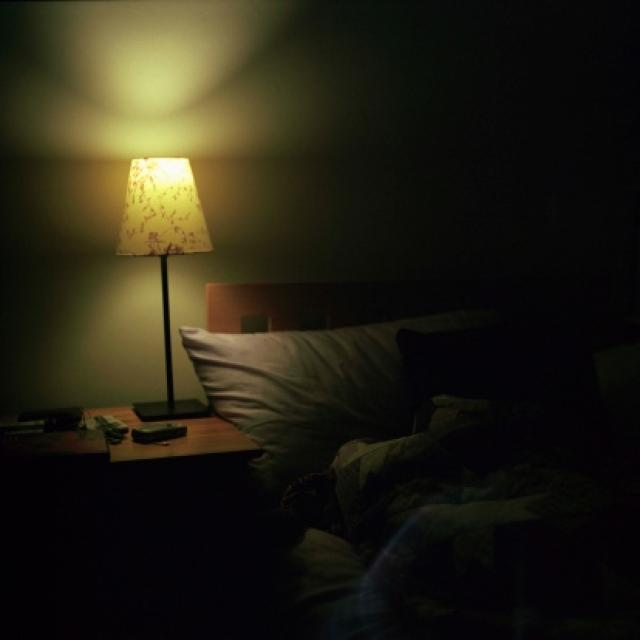People: (332, 371, 557, 617)
Table: (0, 375, 247, 616)
